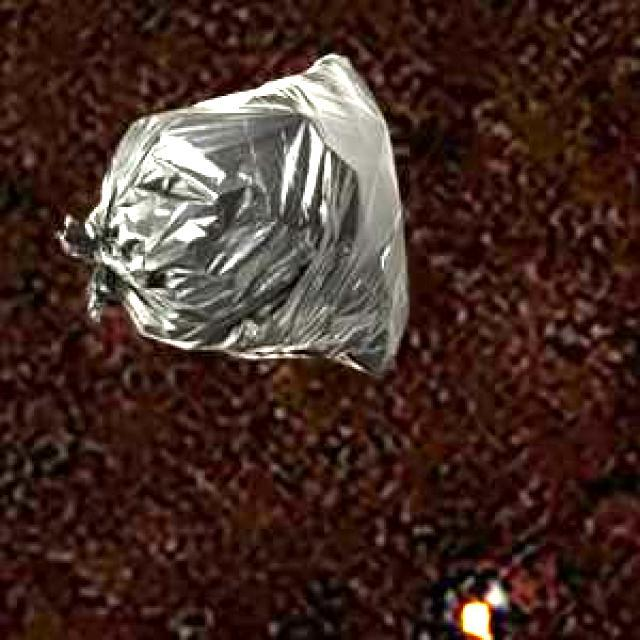Garbage_Bag: (54, 52, 404, 372)
